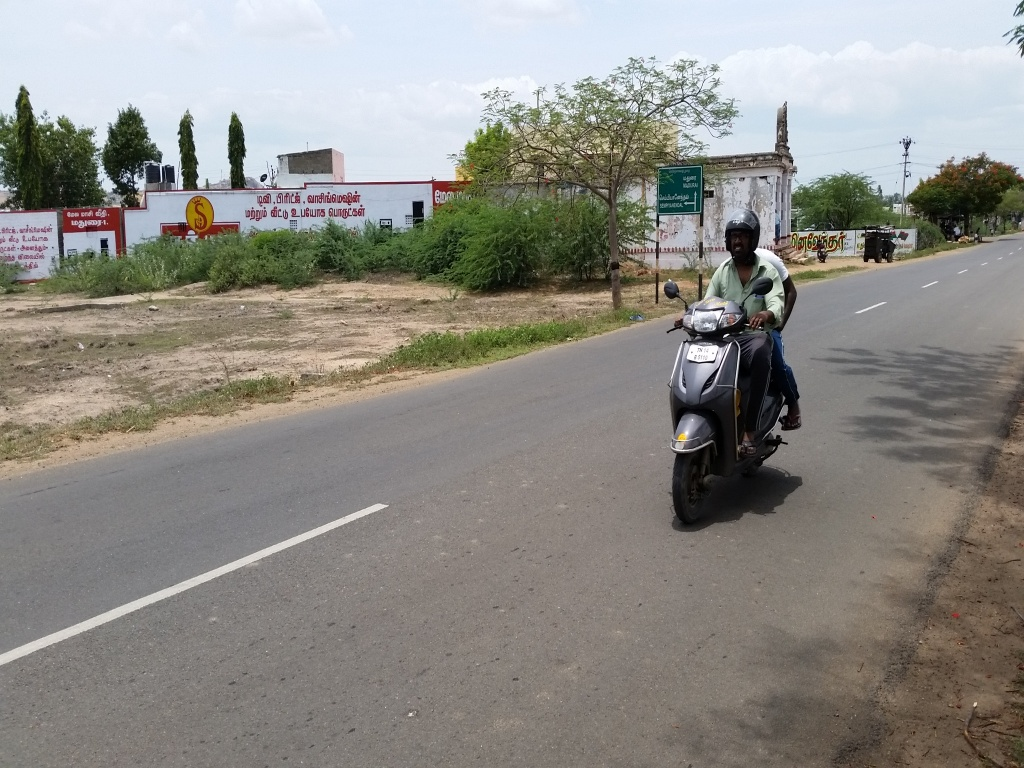biker: (647, 172, 820, 532)
helmet: (717, 200, 771, 277)
